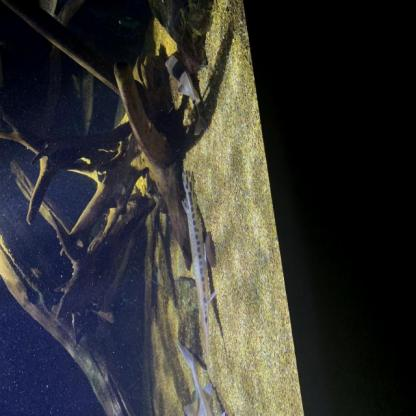fish: (181, 167, 214, 386)
shark: (165, 52, 210, 134), (177, 340, 225, 416)
